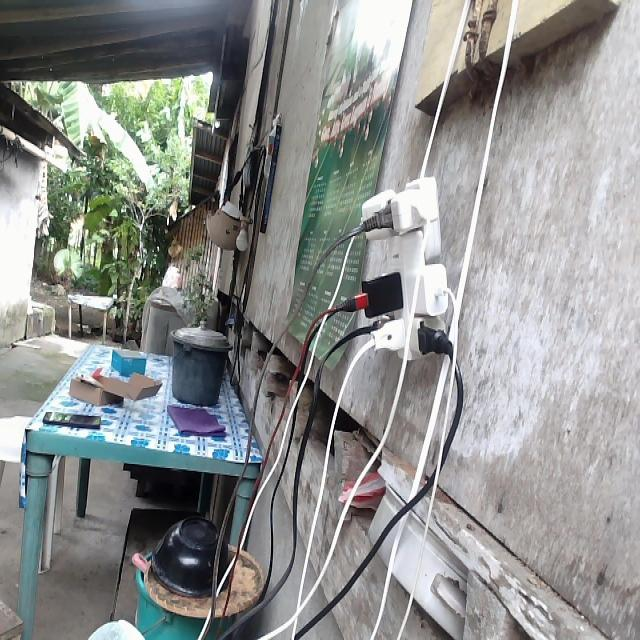-: (353, 176, 451, 363)
